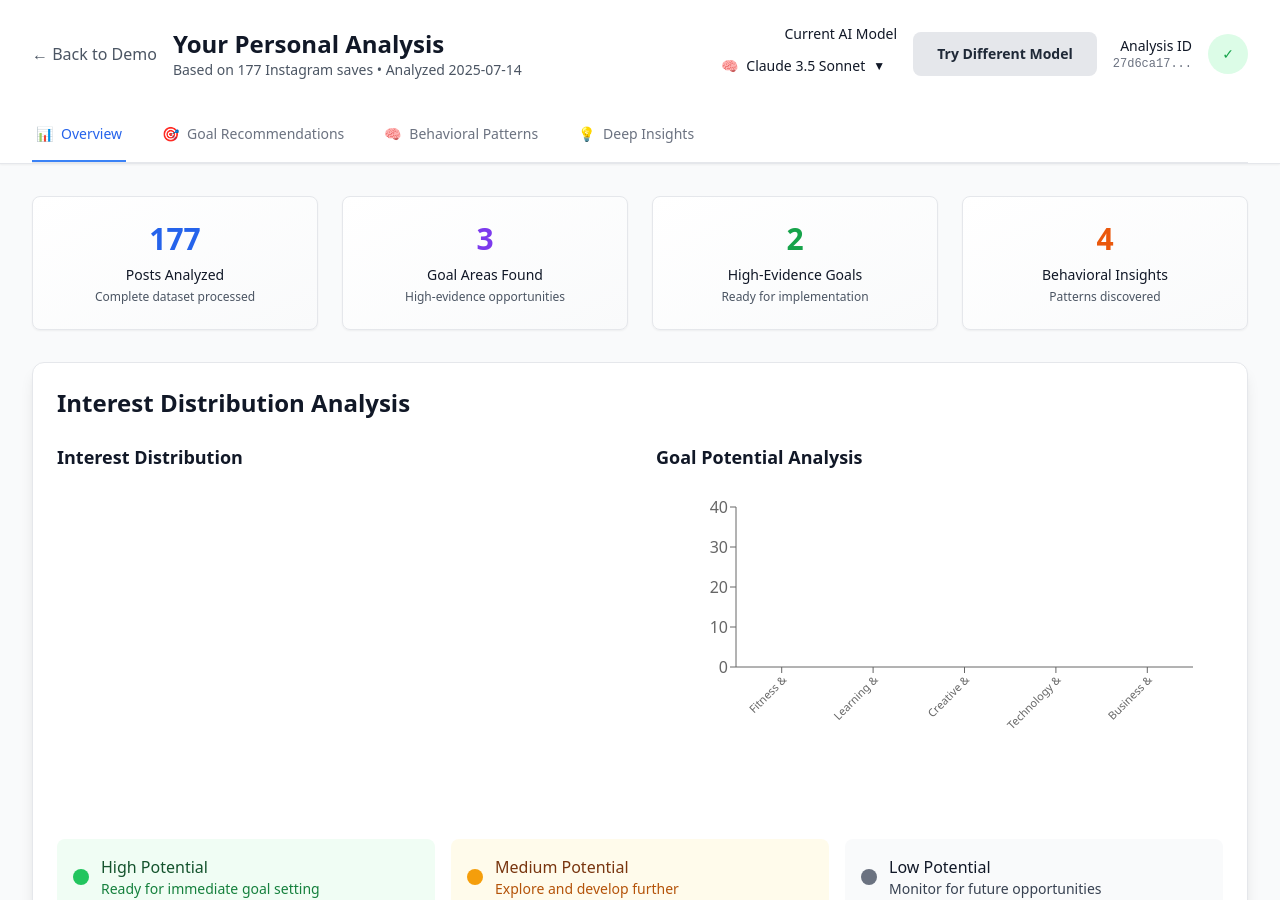
Test case: AnalysisDashboard › displays evidence-based recommendations in insights
This screenshot has width=1280, height=900.
// Switch to insights tab
Step 1. Click the text "Deep Insights" → point(649, 134), box x1=603 y1=124 x2=694 y2=144
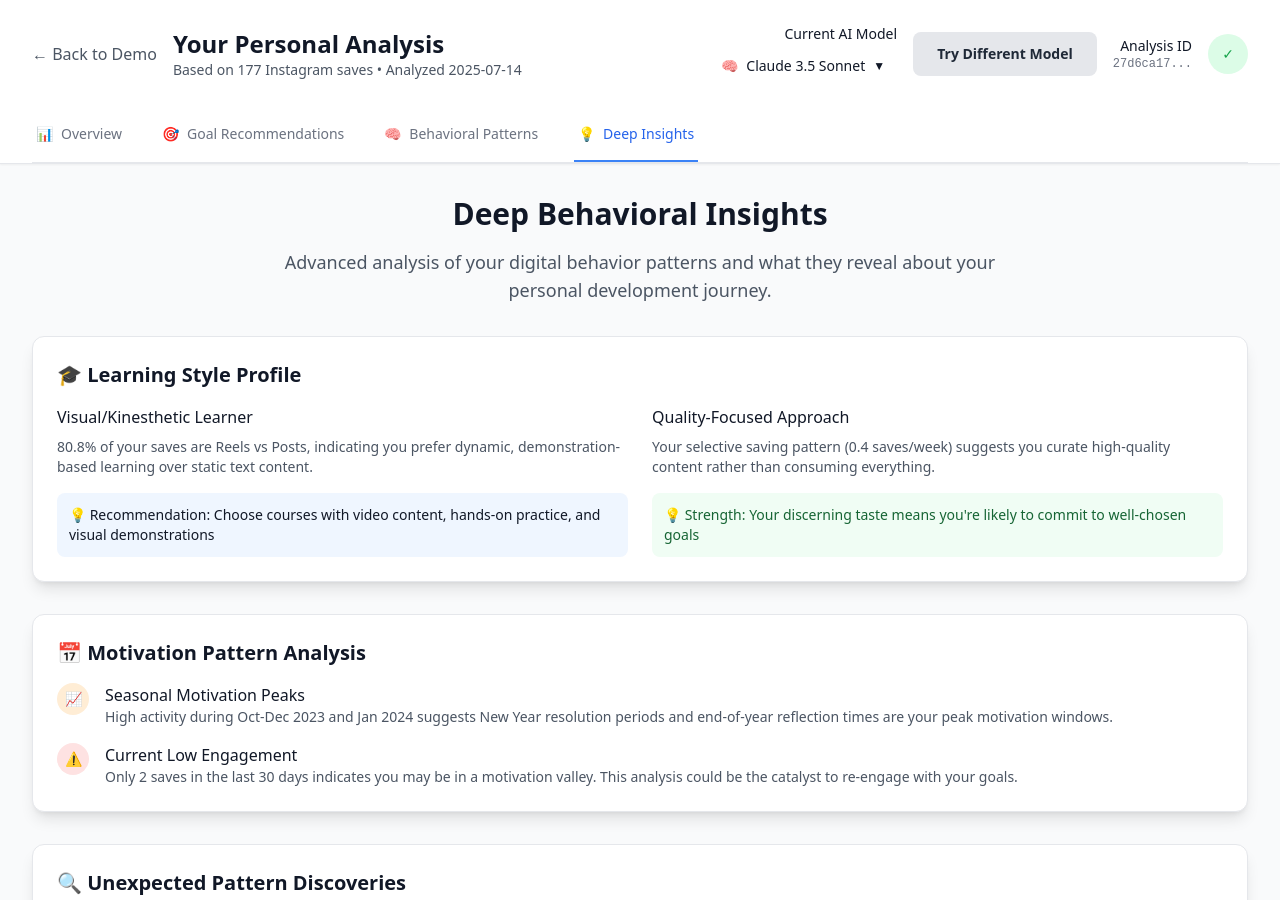
Now the text "80.8% of your saves are Reels" is shown, box x1=57 y1=437 x2=620 y2=476
Now the text "Choose courses with video content" is shown, box x1=69 y1=505 x2=600 y2=544
Now the text "Your discerning taste means you're likely to commit" is shown, box x1=664 y1=505 x2=1186 y2=544
